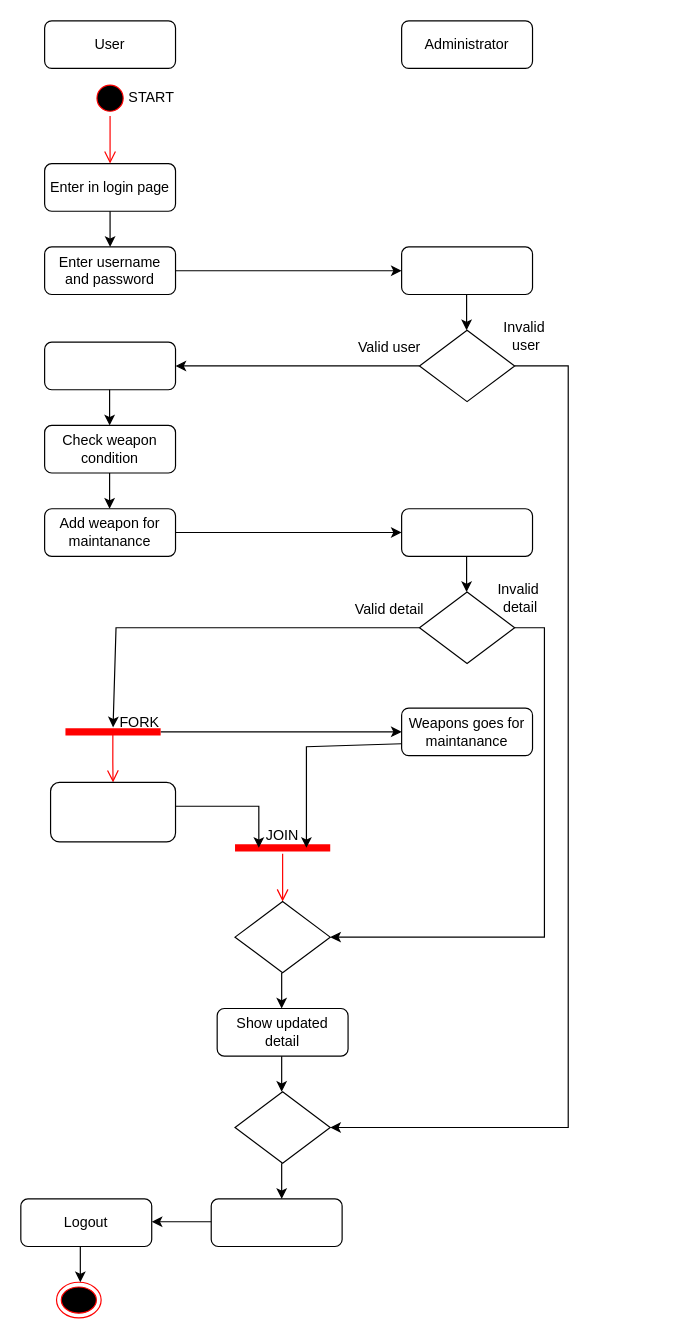
Some shapes in this 696 by 1339 pixel diagram are drawn without their labels. The shapes that lost their labels are listed below. From the top down, each one's centre as x and y in pixels, then its label:
the point at 466,270: Authorize
the point at 109,365: Show detail of weapon
the point at 466,532: Check weapon detail & condition
the point at 112,811: Show maintenance ID & return date of weapon
the point at 276,1222: Show homepage
